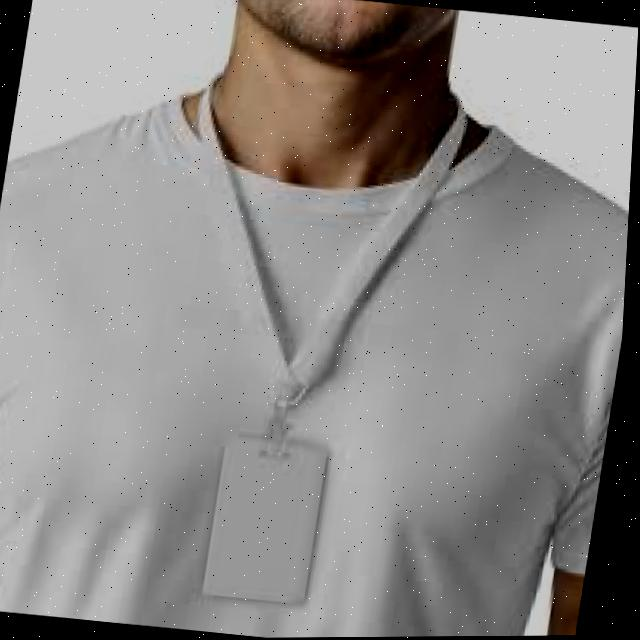id_card: (114, 86, 452, 624)
